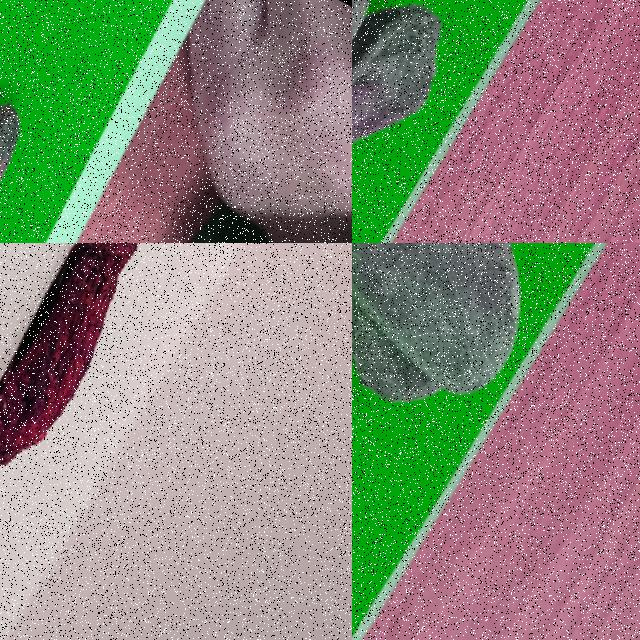Agglomerated_cocoabeans: (352, 243, 639, 502), (352, 0, 534, 242)
Fine_cocoabeans: (0, 0, 132, 242)
Flat_cocoabeans: (0, 243, 209, 536)
